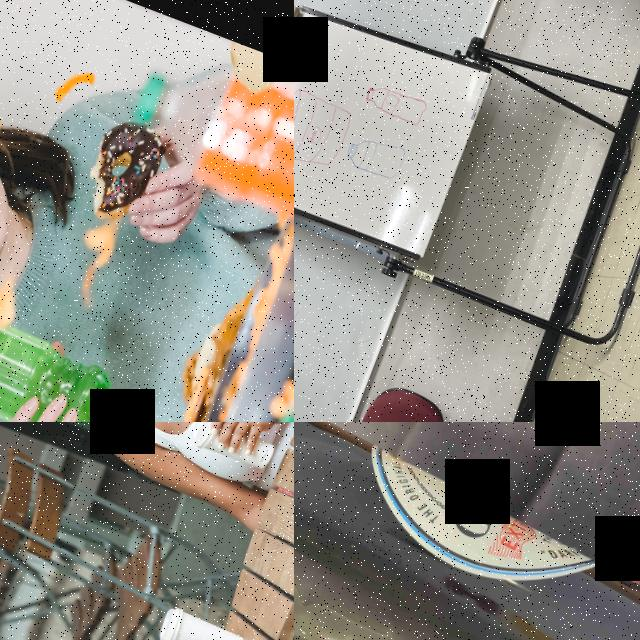bottle: (115, 32, 294, 254), (0, 306, 120, 422)
can: (294, 422, 640, 640)
cup: (186, 422, 280, 474), (155, 603, 248, 640)
